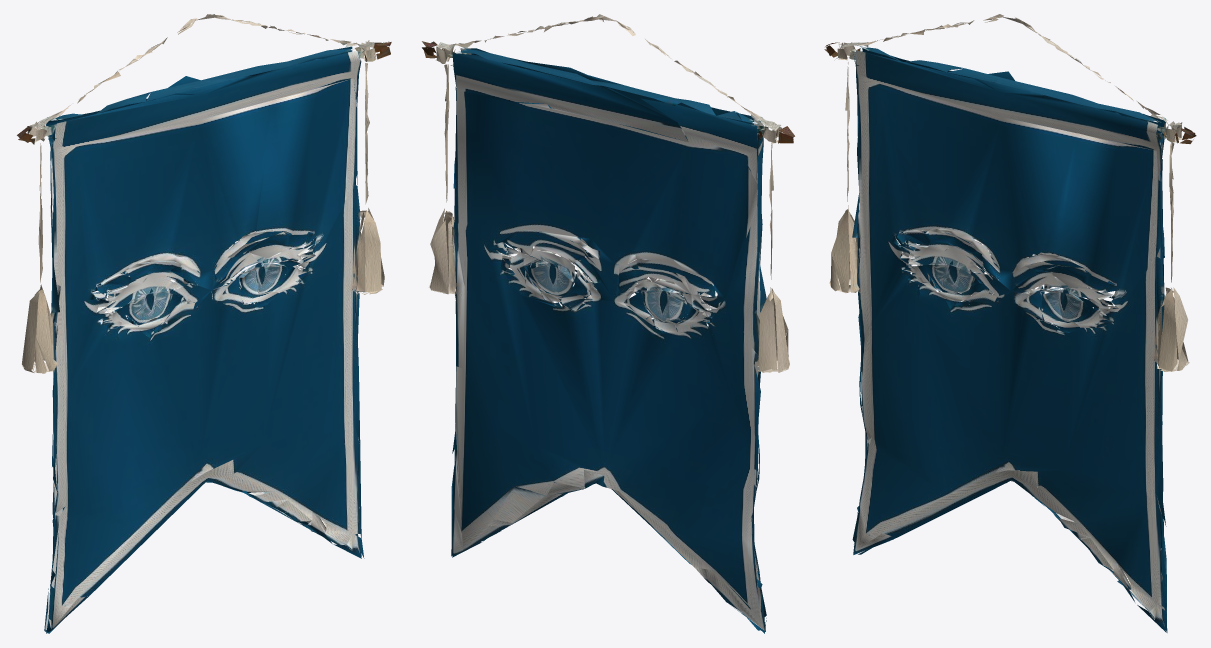
The model's file is vessillo_dawnkeep.glb.
3 renders of one model, left to right at view 1: azimuth 30°, elevation 25°; view 2: azimuth 150°, elevation 25°; view 3: azimuth 330°, elevation 25°, orthographic.
Parts seen in each view (by area): view 1: Mesh_0; view 2: Mesh_0; view 3: Mesh_0.
Boxes of the visible parts, left/top/right/bottom form: Mesh_0: left=17, top=14, right=391, bottom=633; Mesh_0: left=422, top=14, right=794, bottom=633; Mesh_0: left=824, top=14, right=1196, bottom=632.
Bounding box in the file's own units: 1.28 × 1.9 × 0.1024.
1 material, 1 textured.
